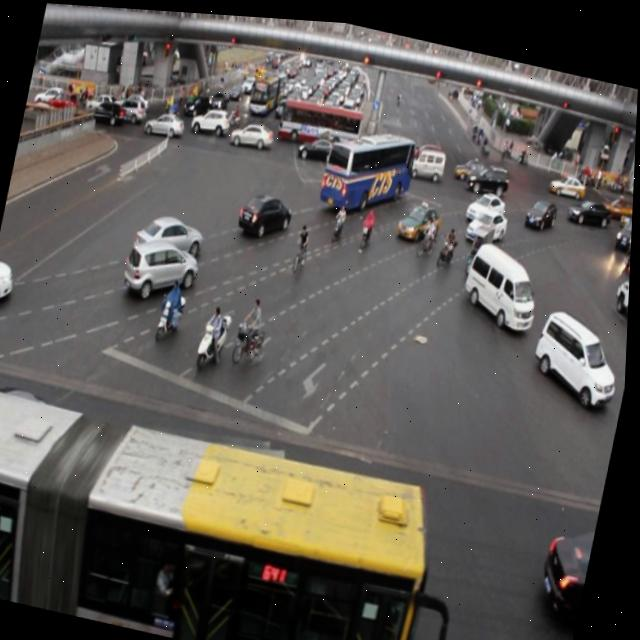car: (0, 375, 95, 508), (539, 507, 601, 610), (123, 232, 204, 301), (135, 206, 209, 263), (238, 184, 299, 240), (398, 194, 441, 238), (465, 199, 509, 238), (464, 178, 506, 218), (569, 185, 613, 220), (229, 115, 275, 147), (523, 189, 558, 229), (0, 251, 21, 314)
truck: (527, 292, 629, 405), (459, 230, 547, 329)
van: (0, 382, 449, 640), (318, 114, 422, 222)
